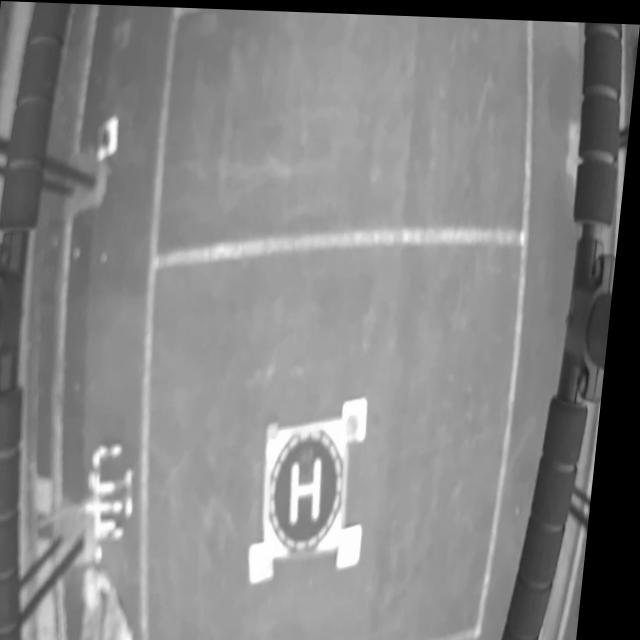Helipad: (299, 454, 331, 520)
